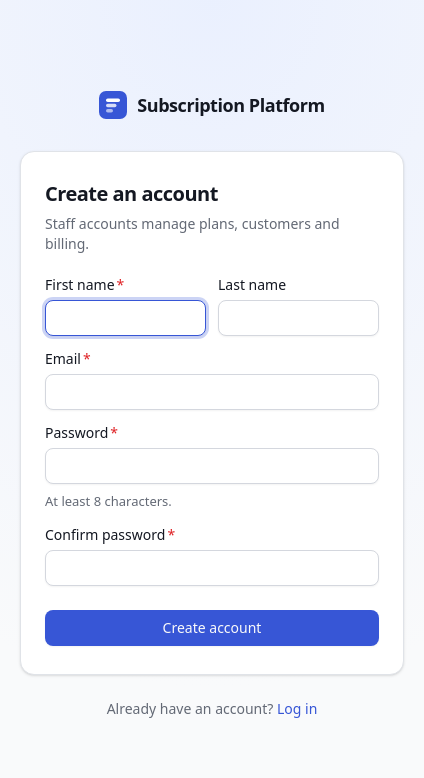
Test: auth › explains when the email is already registered
Type "Asha" into the field labelled "First name*" at (126, 318), box [45, 300, 206, 336]
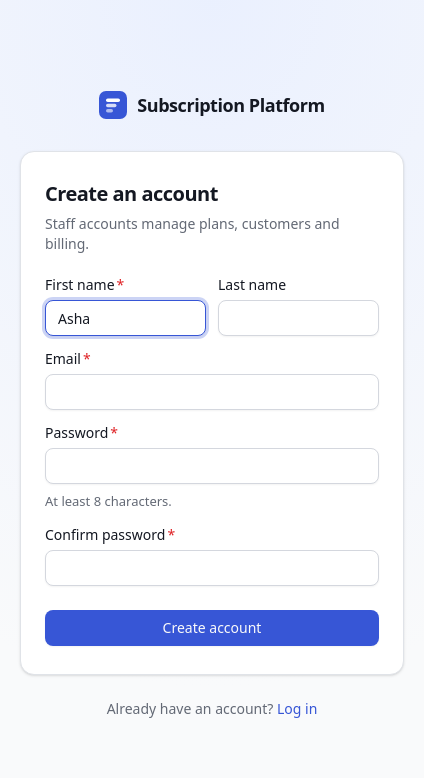
Type "asha@example.com" into the field labelled "Email*" at (212, 392), box [45, 374, 379, 410]
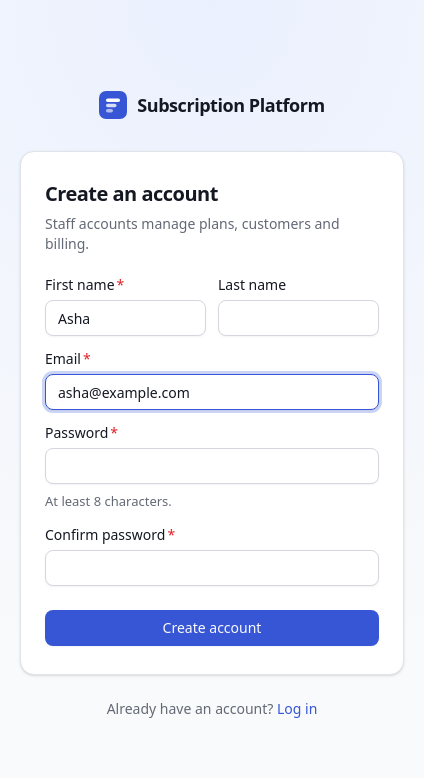
Type "long-enough" into the password field labelled "Password*" at (212, 466), box [45, 448, 379, 484]
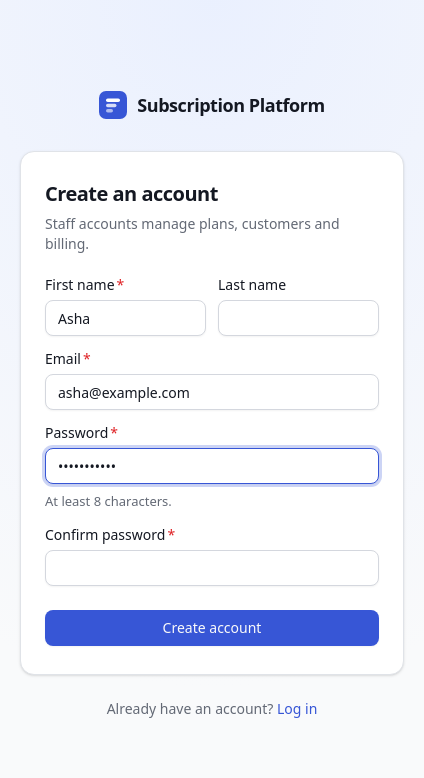
Type "long-enough" into the password field labelled "Confirm password*" at (212, 568), box [45, 550, 379, 586]
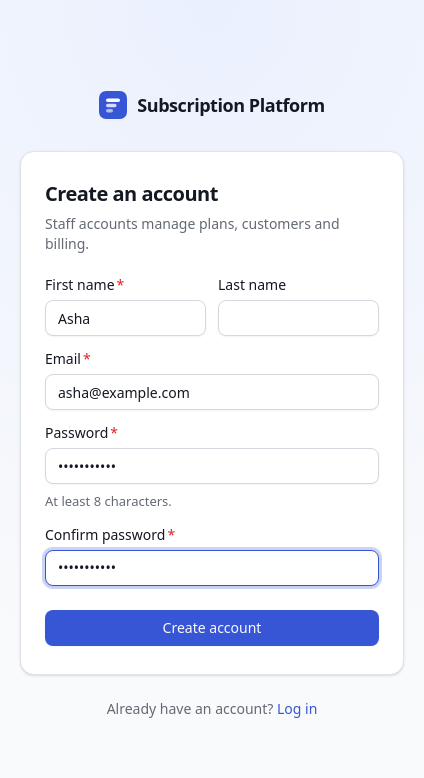
Click the button "Create account" at (212, 628), box [45, 610, 379, 646]
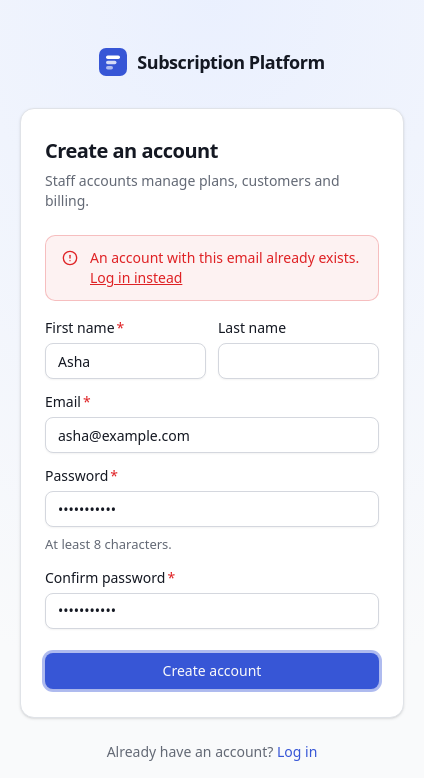
Expected: the text "An account with this email already exists. Log in instead" is shown, [90, 248, 362, 288]
